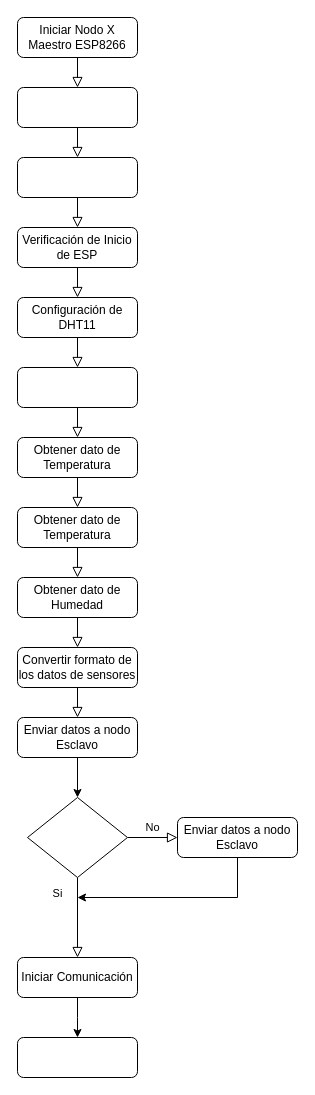
The diagram is 315 pixels wide and 1095 high, and some of its shapes have lost their labels. Here are the shapes that lost their labels. From the top down, the centre of each, then its label:
point 77,107: Iniciar reloj RTC
point 77,177: Desactivar Red AP
point 77,387: Configuración de Dirección
point 77,837: ¿Envió datos al Nodo Esclavo?
point 77,1057: Apagar y Dormir esp8266
